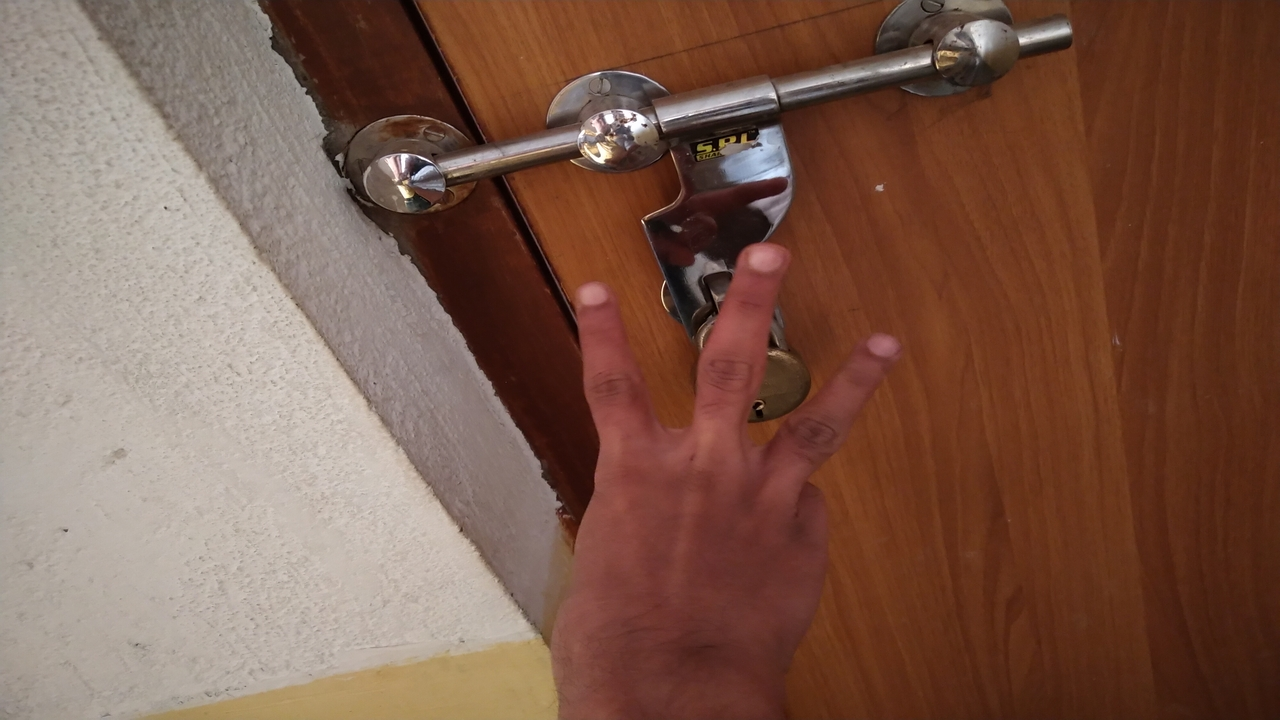fingertip: (846, 322, 920, 384), (738, 230, 800, 288), (570, 276, 614, 320)
